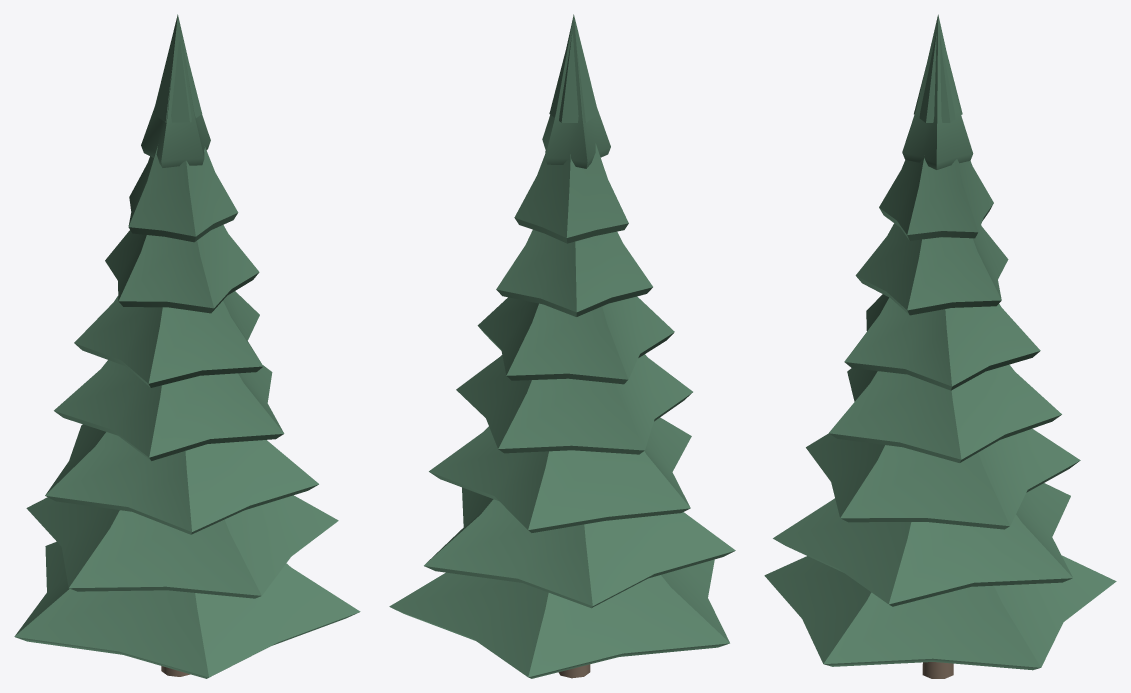
Rendered from tree_spruce_snow.glb.
3 views of the same model, side by side, from view 1: azimuth 30°, elevation 25°; view 2: azimuth 150°, elevation 25°; view 3: azimuth 270°, elevation 25° (orthographic).
Parts seen in each view (by area): view 1: needles; view 2: needles; view 3: needles.
Part boxes in pixels (bbox=[...]): needles: bbox=[14, 14, 360, 678]; needles: bbox=[389, 14, 735, 678]; needles: bbox=[764, 14, 1116, 670].
Bounding box in the file's own units: 4.91 × 10.38 × 5.04.
